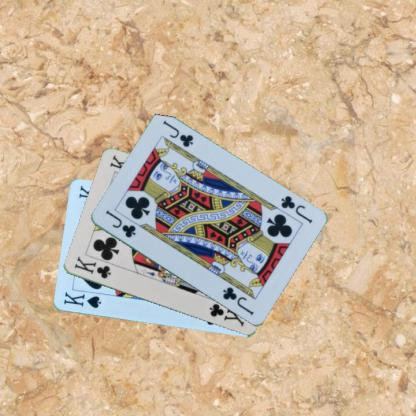Jc: (278, 193, 313, 225), (103, 208, 137, 240)
Kc: (72, 254, 112, 280)
Ks: (61, 290, 102, 310)
